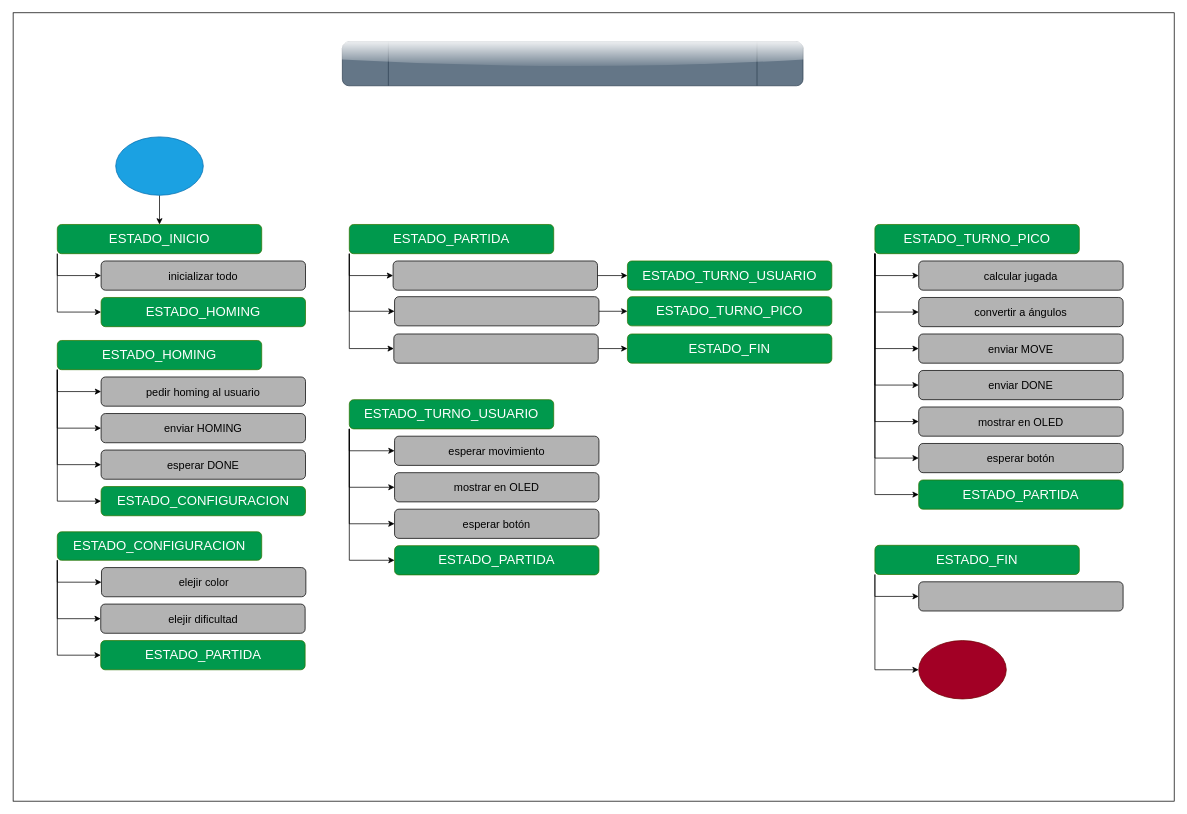
The diagram is 1187 pixels wide and 814 high, and some of its shapes have lost their labels. The centre of each missing label's shape, as x and y in pixels:
"FIN" goes at point 962,669.
"if fin partida" goes at point 495,348.
"if turno_pico" goes at point 496,311.
"if turno_usuario" goes at point 495,275.
"INICIO" goes at point 159,165.
"mostrar resultado" goes at point 1020,596.
"Pico - Maquina de estados (main.py)" goes at point 572,63.
